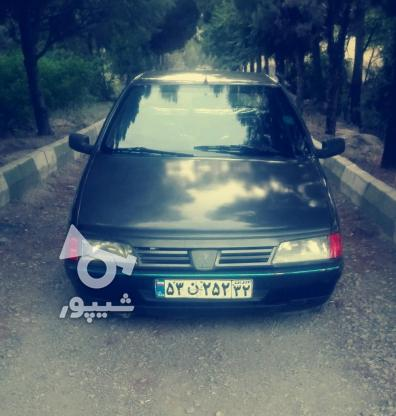car: (153, 279, 255, 298)
